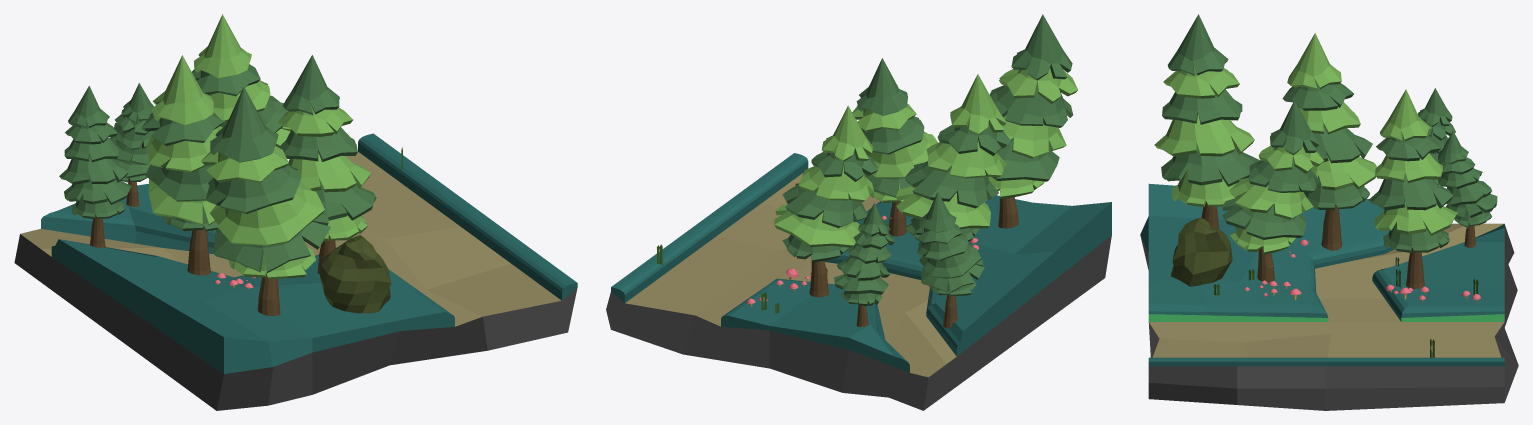
File: low-poly-forest-trees-scene-ii-free.glb
3 views of the same model, side by side, from view 1: azimuth 30°, elevation 25°; view 2: azimuth 150°, elevation 25°; view 3: azimuth 270°, elevation 25° (orthographic). The views are drawn at different scales.
Visible parts, largest first — view 1: Plane.002, Cylinder.004, Cylinder.026, Sphere; view 2: Plane.002, Cylinder.004, Cylinder.026; view 3: Plane.002, Cylinder.004, Sphere, Cylinder.026, Plane.004.
Boxes of the visible parts, box(x1,y1,x2,y2) form: Plane.002: box(14, 133, 577, 410); Cylinder.004: box(109, 14, 376, 316); Cylinder.026: box(59, 85, 131, 247); Sphere: box(320, 235, 391, 313); Plane.002: box(606, 153, 1111, 410); Cylinder.004: box(774, 14, 1077, 326); Cylinder.026: box(914, 192, 984, 328); Plane.002: box(1140, 183, 1518, 410); Cylinder.004: box(1154, 14, 1497, 288); Sphere: box(1171, 217, 1232, 286); Cylinder.026: box(1418, 88, 1455, 184); Plane.004: box(1213, 257, 1478, 357).
Bounding box in the file's own units: 8.52 × 6.43 × 8.51.
